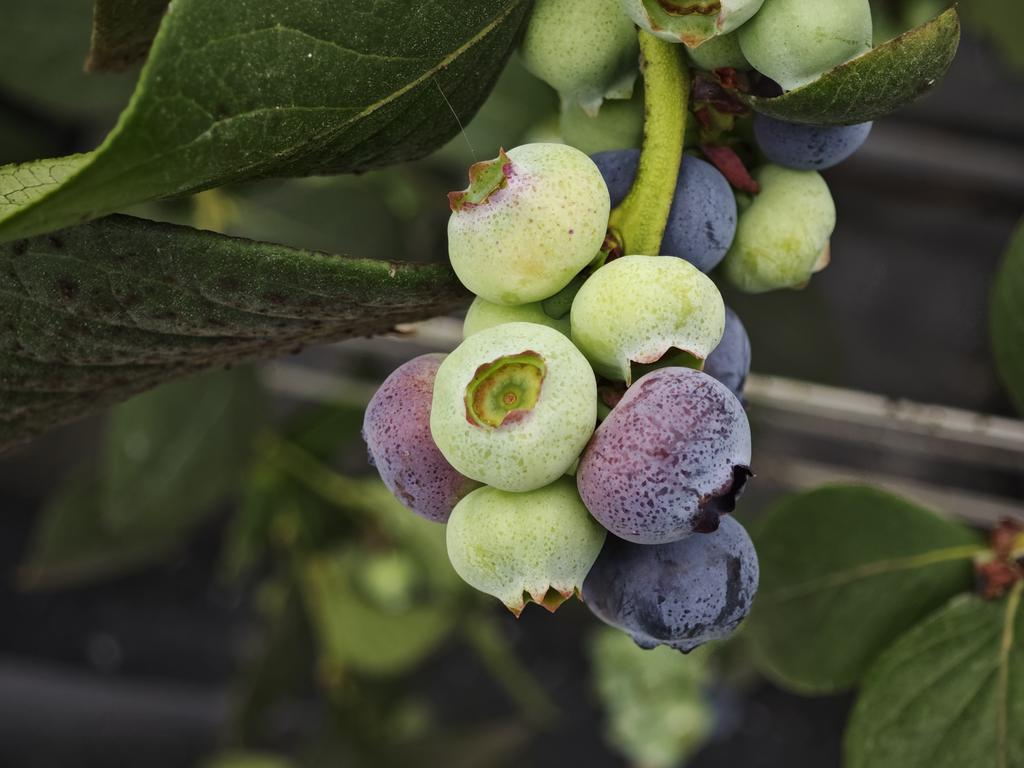RipeBlueBerry: (582, 518, 764, 657)
Semi-RipeBlueBerry: (577, 364, 756, 548)
UnripeBlueBerry: (428, 319, 601, 498), (443, 139, 613, 308)
